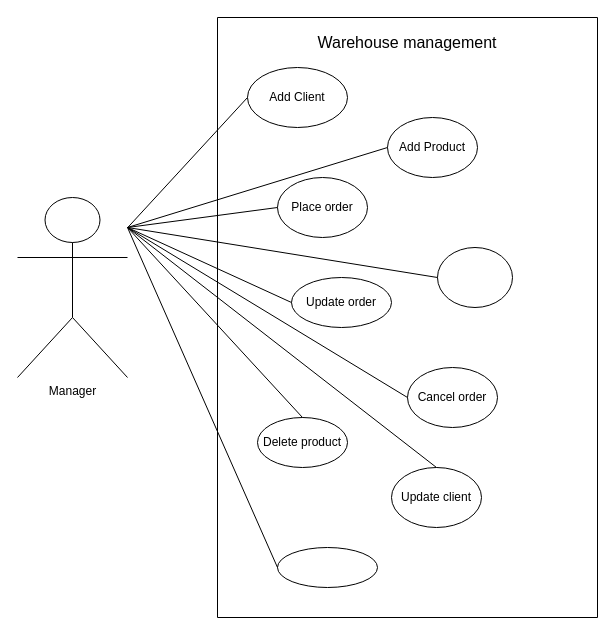
This 615x635 diagram has some shape labels left out. The shapes that lost their labels are listed below. From the top down, each one's box as (x1, y1, x2, y2) in pixels, then its label:
(436, 246, 512, 308): Delete Client
(276, 546, 378, 588): Update product
